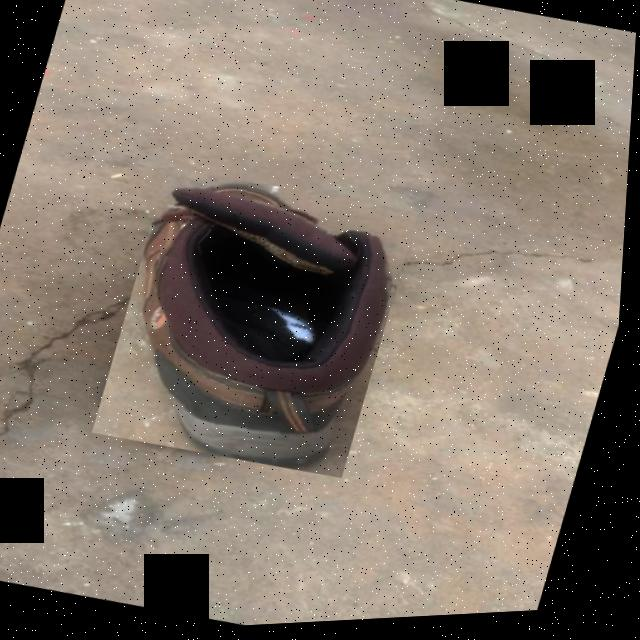shoe: (94, 157, 423, 492)
